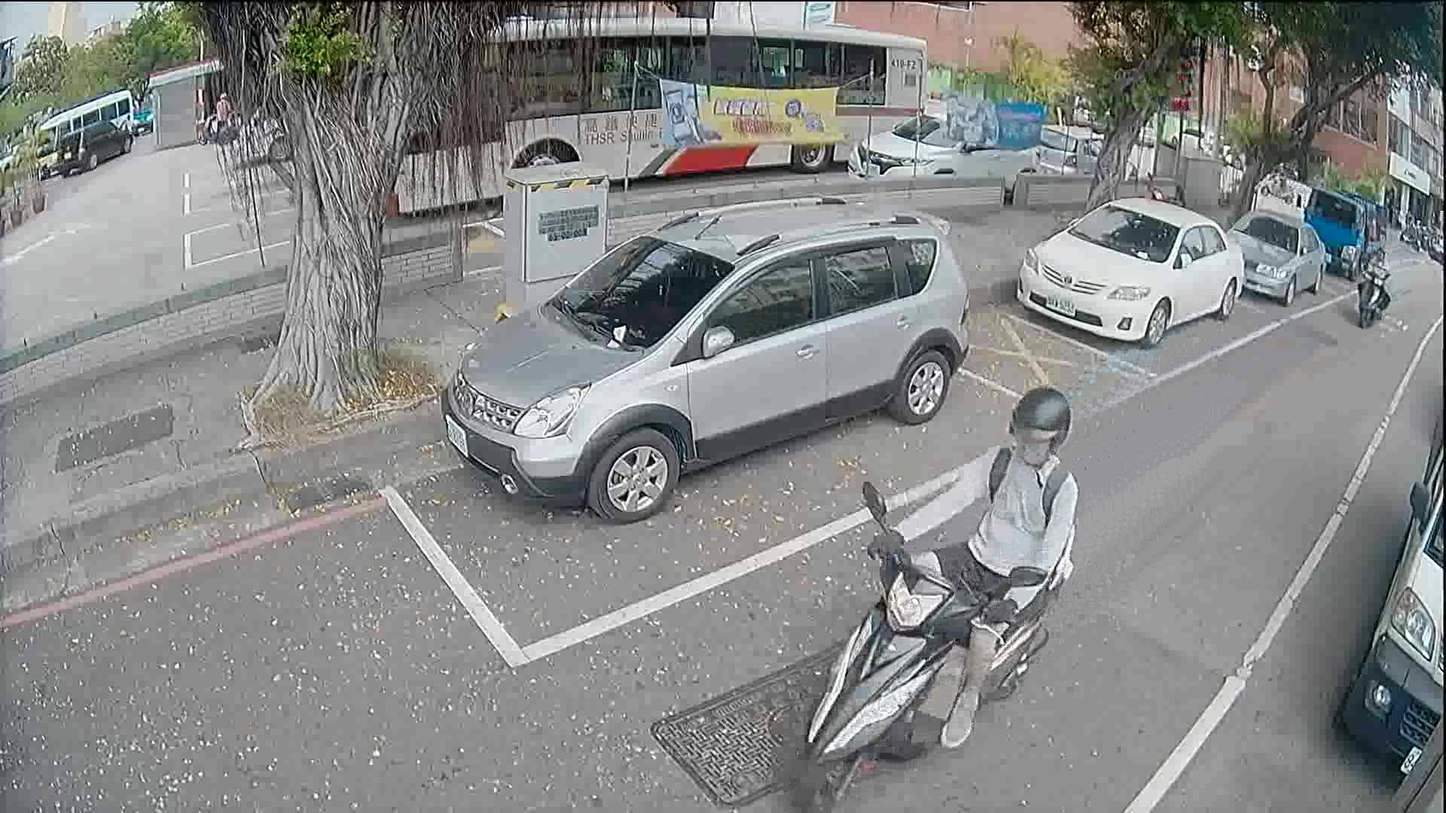person: (861, 379, 1084, 753), (1357, 245, 1390, 312), (208, 85, 232, 143)
